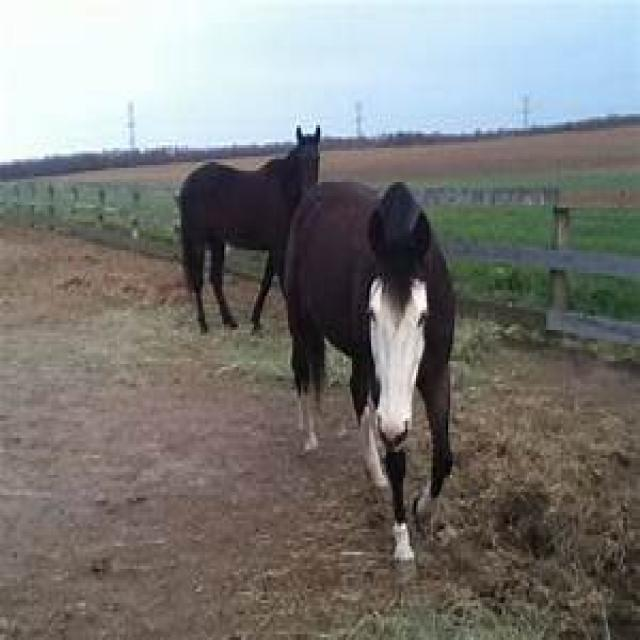horse: (282, 182, 454, 566), (179, 128, 320, 336)
